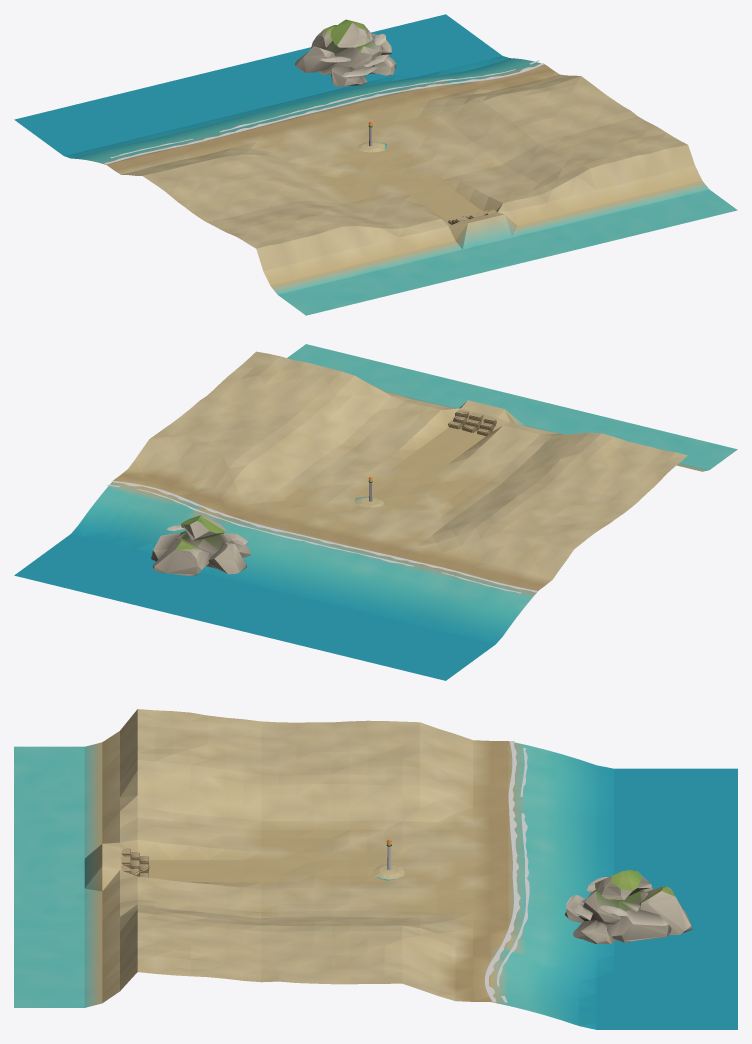
The model's file is coast_terrain.glb.
3 renders of one model, top to bottom at view 1: azimuth 30°, elevation 25°; view 2: azimuth 150°, elevation 25°; view 3: azimuth 270°, elevation 25°, orthographic. The views are drawn at different scales.
Parts seen in each view (by area): view 1: terrain, headland, foam, foam_inner; view 2: terrain, headland, foam, arrival_steps, foam_inner; view 3: terrain, headland, foam, foam_inner, arrival_steps.
Part boxes in pixels (x1=…): terrain: x1=14, y1=14, x2=737, y2=315; headland: x1=295, y1=19, x2=396, y2=87; foam: x1=104, y1=63, x2=544, y2=164; foam_inner: x1=110, y1=60, x2=539, y2=158; terrain: x1=14, y1=344, x2=737, y2=680; headland: x1=151, y1=515, x2=250, y2=576; foam: x1=111, y1=481, x2=537, y2=592; arrival_steps: x1=448, y1=409, x2=496, y2=435; foam_inner: x1=107, y1=484, x2=521, y2=593; terrain: x1=14, y1=709, x2=737, y2=1029; headland: x1=565, y1=870, x2=692, y2=944; foam: x1=485, y1=741, x2=520, y2=1002; foam_inner: x1=497, y1=748, x2=529, y2=1002; arrival_steps: x1=121, y1=848, x2=149, y2=877.
Size of the model in its own units: 28 by 3.72 by 32.8.
